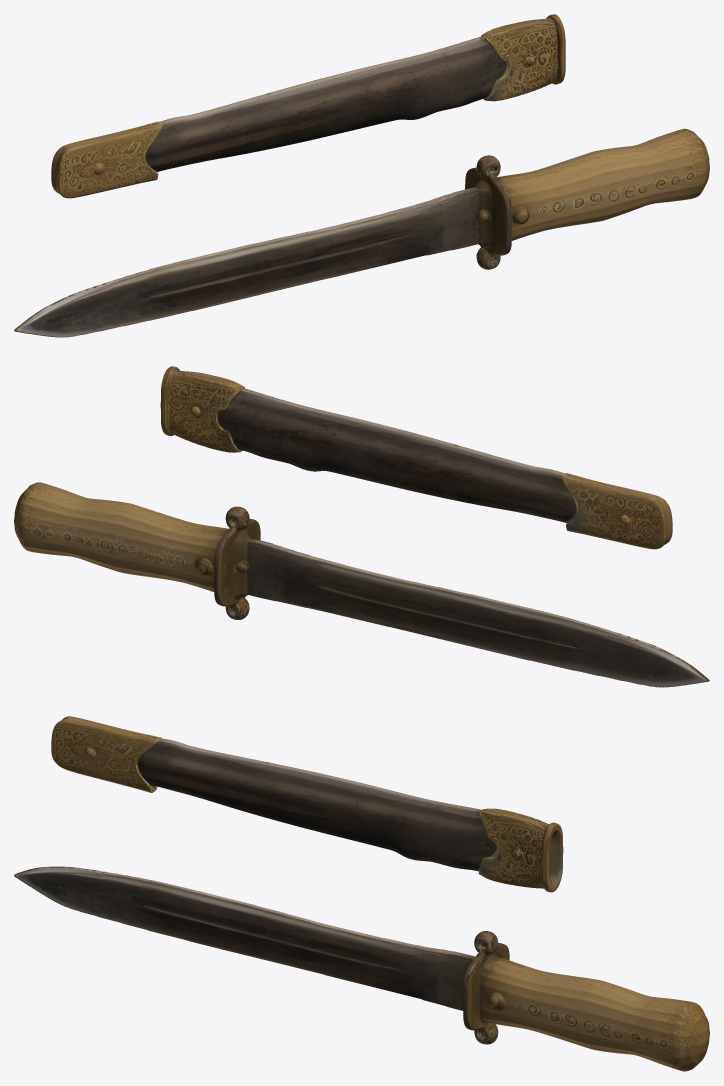
The model's file is 中国童子军短刀.glb.
3 views of the same model, one above another, from view 1: azimuth 30°, elevation 25°; view 2: azimuth 150°, elevation 25°; view 3: azimuth 330°, elevation 25° (orthographic).
Visible parts, largest first — view 1: texture_pbr_v128; view 2: texture_pbr_v128; view 3: texture_pbr_v128.
Boxes of the visible parts, left/top/right/bottom form: texture_pbr_v128: left=14, top=14, right=709, bottom=337; texture_pbr_v128: left=14, top=366, right=709, bottom=687; texture_pbr_v128: left=14, top=716, right=709, bottom=1071.
Bounding box in the file's own units: 1.18 × 0.3838 × 0.1258.
Materials: 1 (1 with a texture image).
